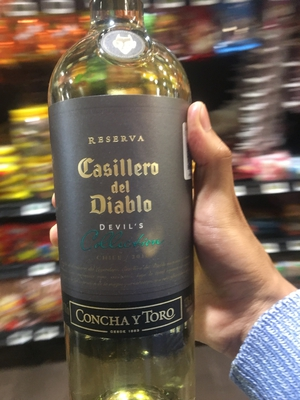casillero del diablo devils collection verde: (49, 8, 220, 387)
